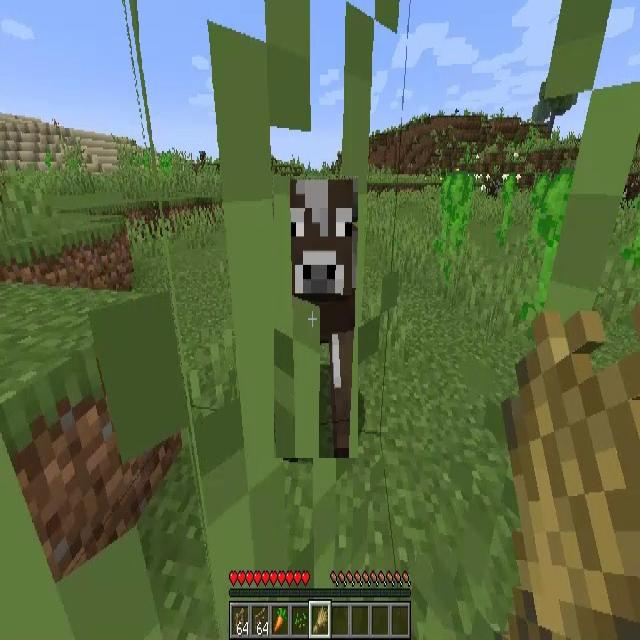cow: (274, 176, 358, 458)
